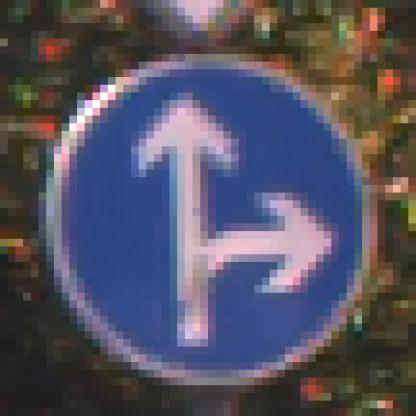Straight or Right: (47, 47, 379, 371)
